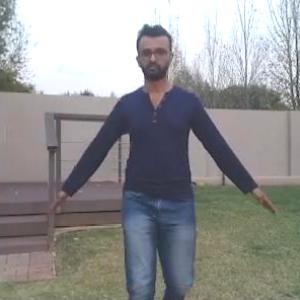land: (53, 26, 268, 299)
